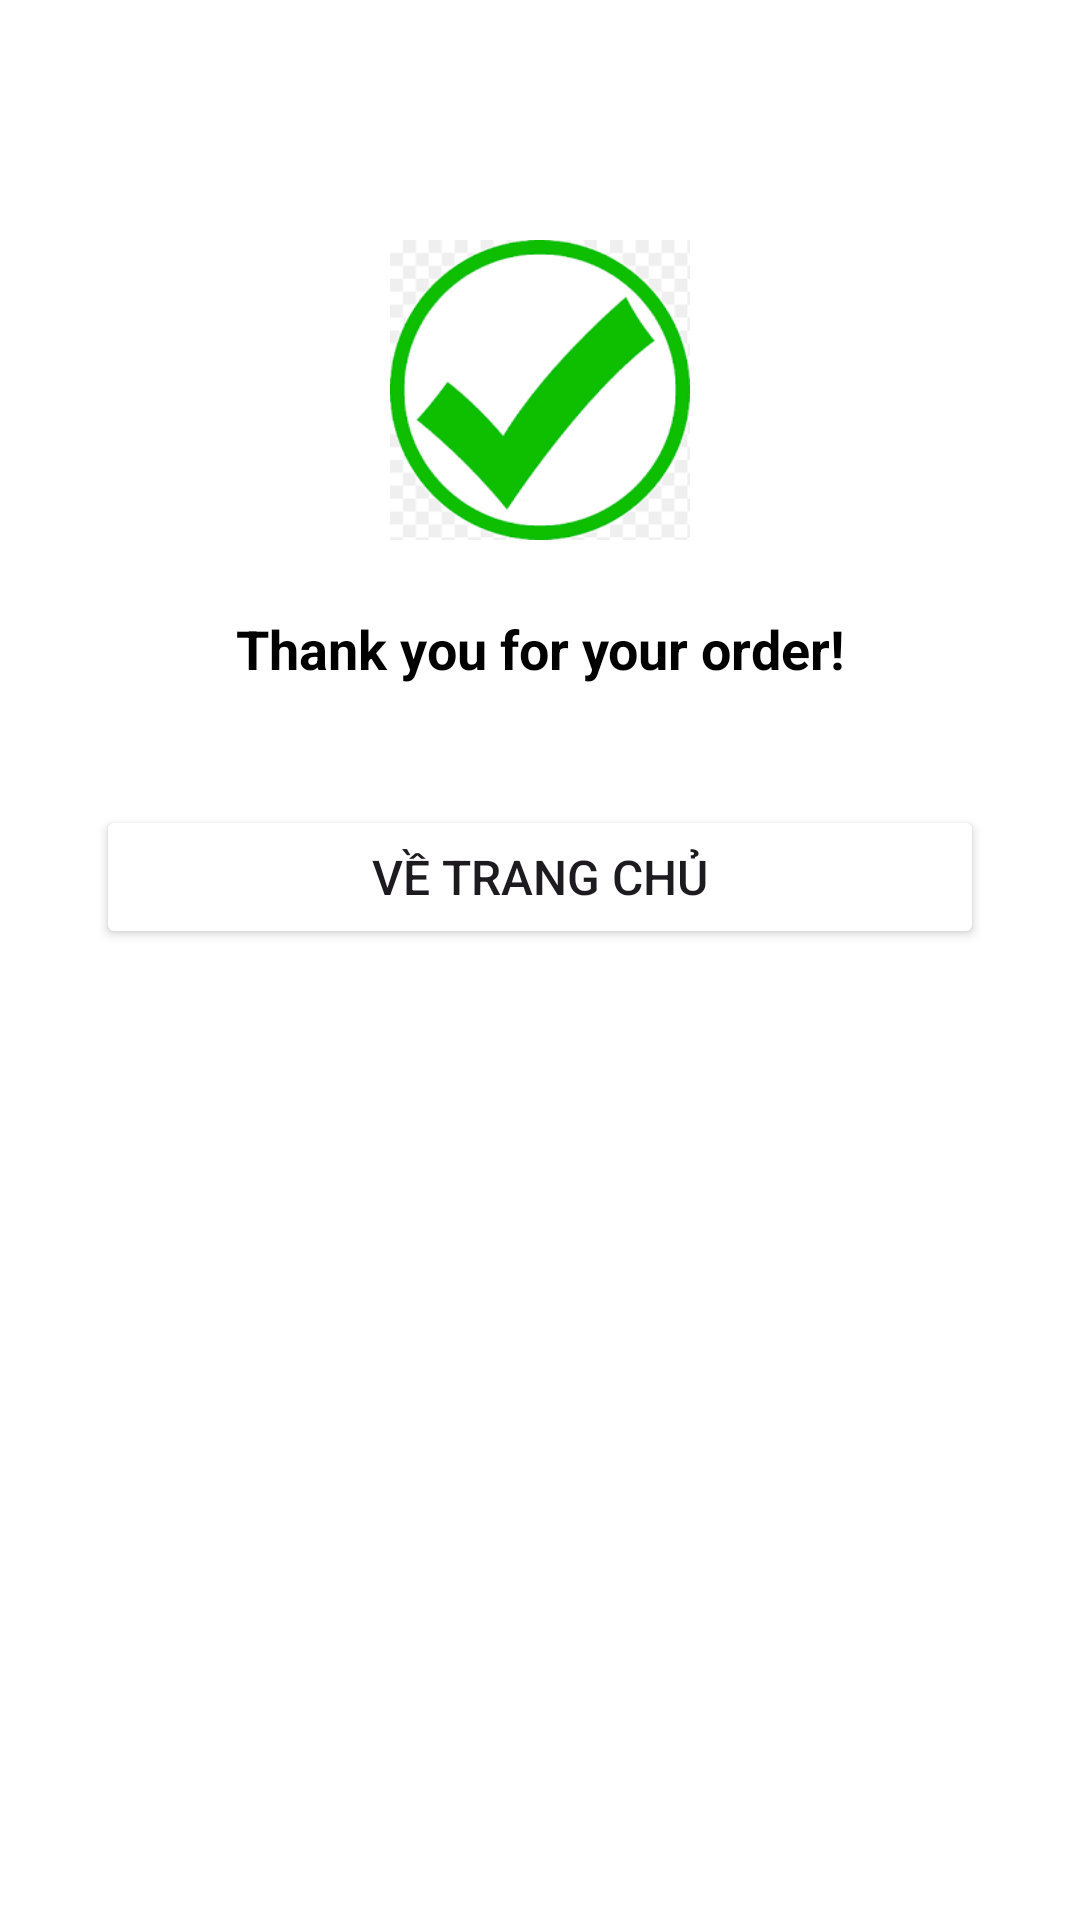

Locate icon controls on the screen. Image size 1080 × 1920, boxes as (x1, y1, x2, y2).
greentick: (390, 240, 690, 540)
